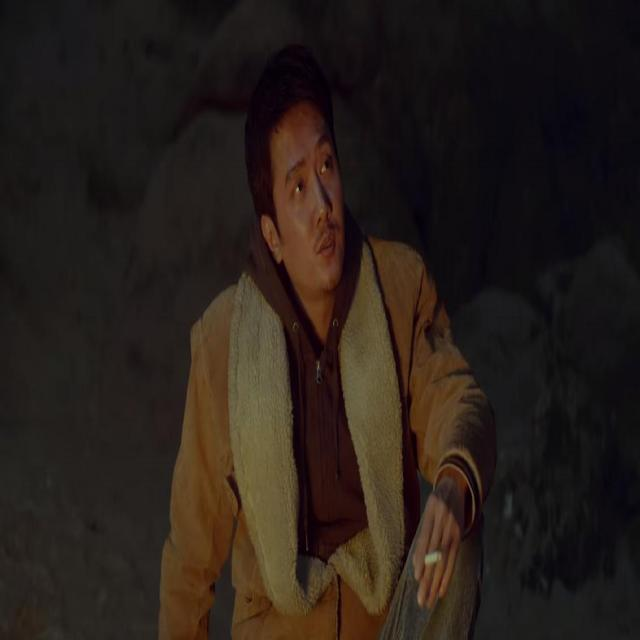cigarette: (424, 543, 443, 580)
